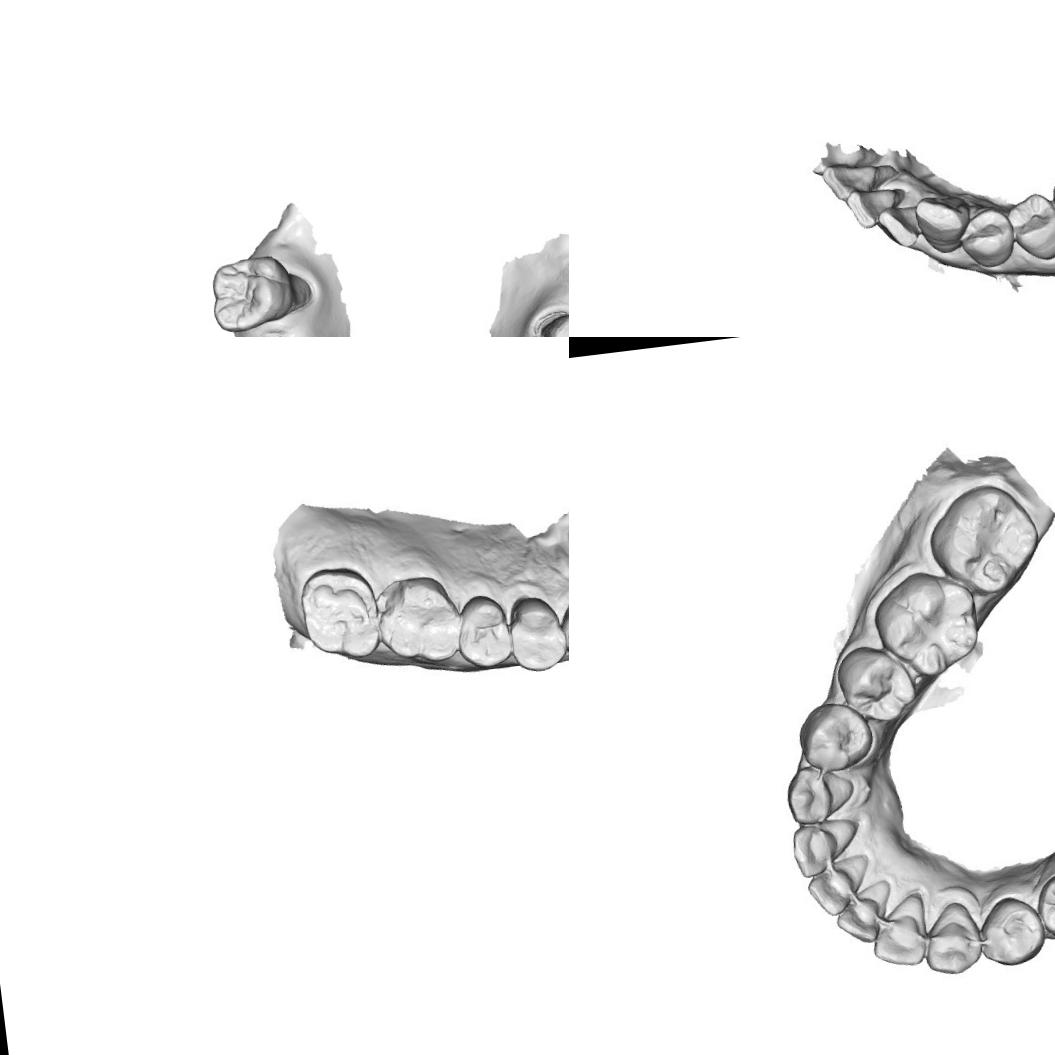canine: (919, 898, 985, 978), (781, 760, 858, 828), (912, 190, 976, 258)
implant: (252, 328, 293, 337)
incisor: (866, 892, 932, 970), (802, 853, 875, 919), (790, 816, 864, 879), (832, 878, 898, 947), (844, 183, 910, 231), (818, 158, 884, 204), (876, 202, 923, 251)
molar: (922, 478, 1044, 602), (868, 564, 984, 683), (205, 247, 317, 335), (294, 560, 384, 666), (372, 572, 466, 670)
premolar: (834, 640, 918, 727), (795, 697, 876, 776), (975, 892, 1049, 970), (504, 591, 569, 676), (452, 589, 515, 674), (956, 206, 1018, 272), (1003, 189, 1055, 265), (1032, 865, 1055, 946)
